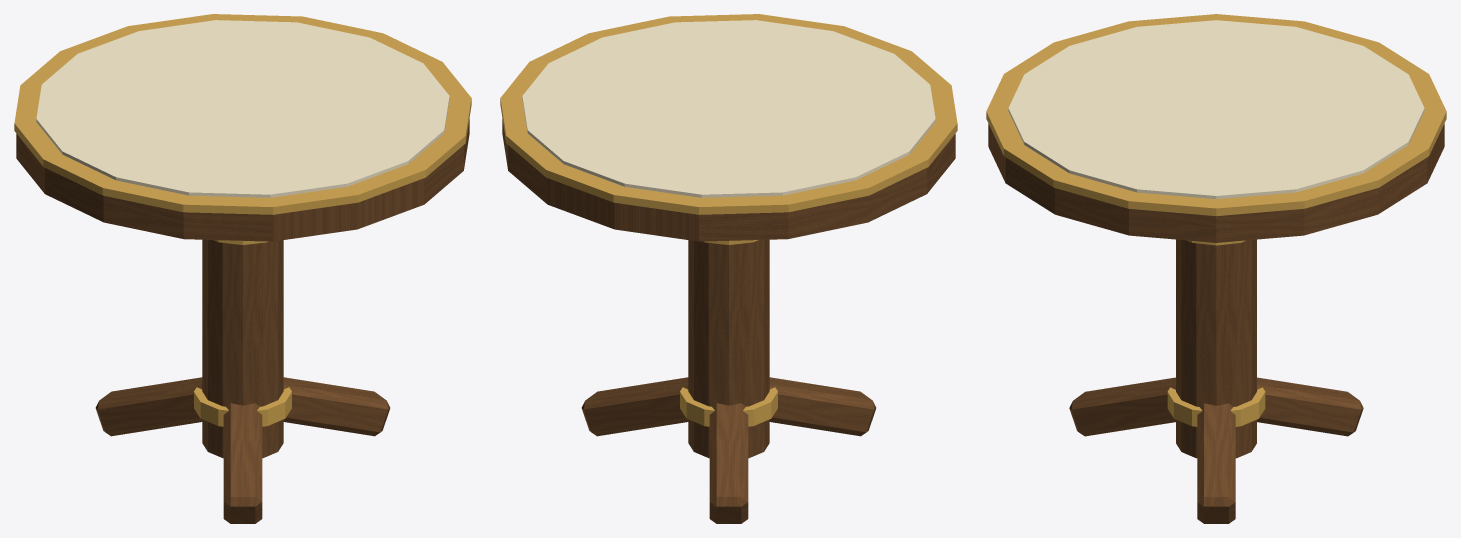
The model's file is tea-table.glb.
3 views of the same model, side by side, from view 1: azimuth 30°, elevation 25°; view 2: azimuth 150°, elevation 25°; view 3: azimuth 270°, elevation 25° (orthographic).
Parts seen in each view (by area): view 1: Inlaid ivory tabletop, Brass table rim, Turned table pedestal, Walnut round table top, Splayed table foot.002, Splayed table foot, Splayed table foot.001, Pedestal brass band; view 2: Inlaid ivory tabletop, Brass table rim, Turned table pedestal, Walnut round table top, Splayed table foot.001, Splayed table foot, Splayed table foot.002, Pedestal brass band; view 3: Inlaid ivory tabletop, Brass table rim, Turned table pedestal, Walnut round table top, Splayed table foot, Splayed table foot.001, Splayed table foot.002, Pedestal brass band.
Boxes of the visible parts, <box> form: Inlaid ivory tabletop: <box>36,20,449,197</box>; Brass table rim: <box>14,14,471,214</box>; Turned table pedestal: <box>202,239,283,458</box>; Walnut round table top: <box>16,119,469,241</box>; Splayed table foot.002: <box>223,403,262,523</box>; Splayed table foot: <box>283,377,390,436</box>; Splayed table foot.001: <box>95,377,202,436</box>; Pedestal brass band: <box>194,387,291,426</box>; Inlaid ivory tabletop: <box>522,20,935,197</box>; Brass table rim: <box>500,14,957,214</box>; Turned table pedestal: <box>688,239,769,458</box>; Walnut round table top: <box>502,119,955,241</box>; Splayed table foot.001: <box>709,403,748,523</box>; Splayed table foot: <box>581,377,688,436</box>; Splayed table foot.002: <box>769,377,876,436</box>; Pedestal brass band: <box>680,387,777,426</box>; Inlaid ivory tabletop: <box>1008,20,1424,198</box>; Brass table rim: <box>986,14,1446,216</box>; Turned table pedestal: <box>1176,239,1256,458</box>; Walnut round table top: <box>988,123,1444,242</box>; Splayed table foot: <box>1197,403,1235,523</box>; Splayed table foot.001: <box>1257,377,1363,436</box>; Splayed table foot.002: <box>1069,377,1175,436</box>; Pedestal brass band: <box>1167,387,1265,426</box>.
Bounding box in the file's own units: 1.25 × 1.06 × 1.25.
Materials: 3 (1 with a texture image).
